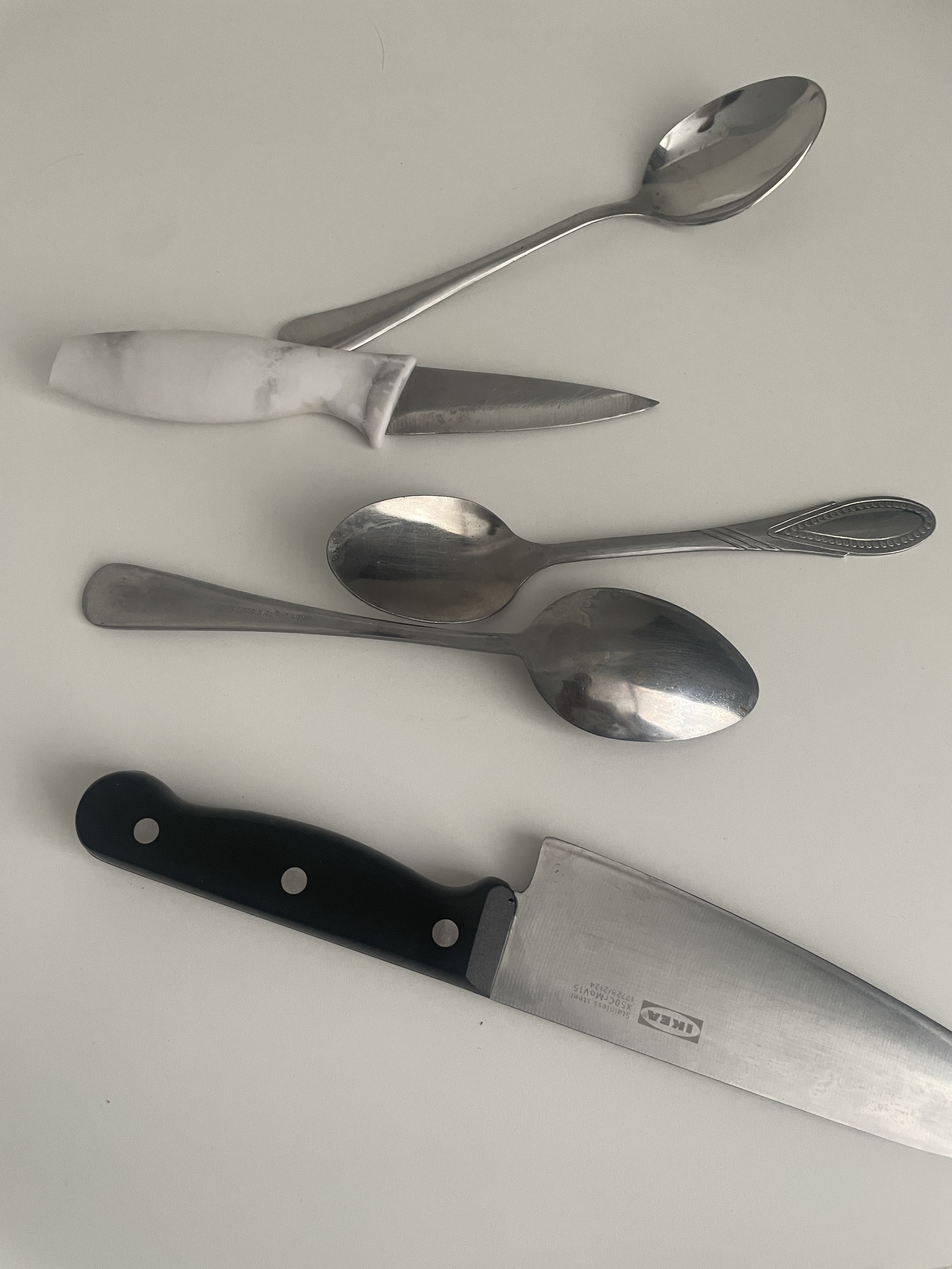knife: (76, 771, 952, 1155), (50, 331, 657, 447)
spoon: (278, 76, 826, 350), (83, 564, 758, 742), (327, 496, 936, 623)
